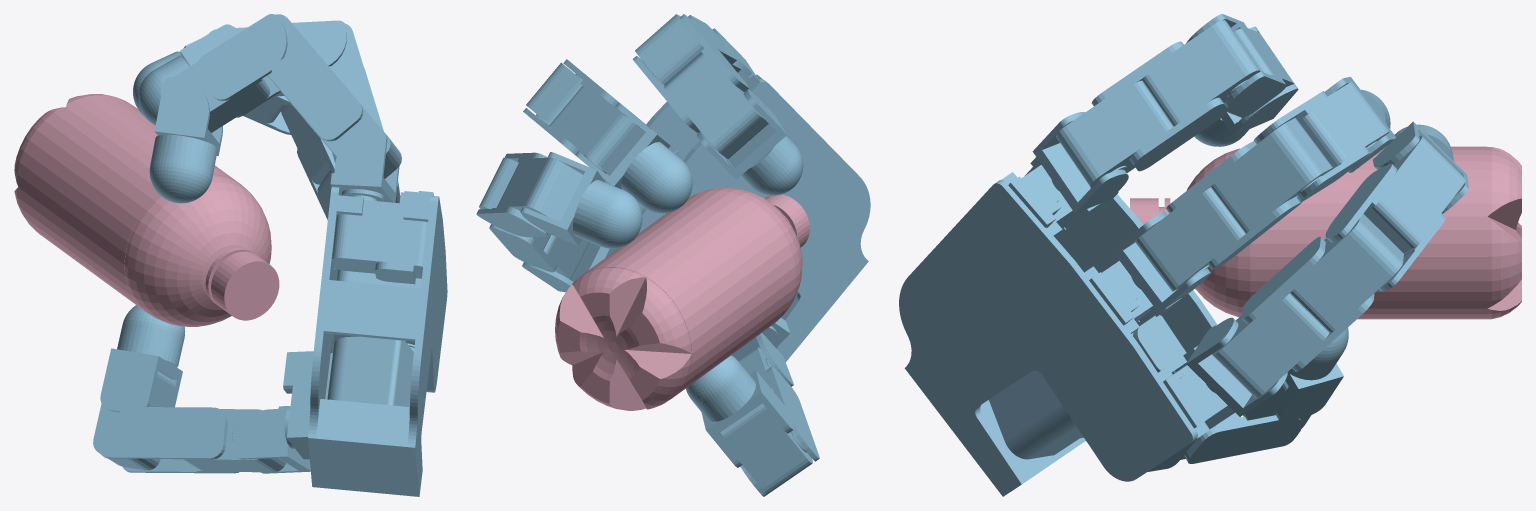
The picture shows the model from 3 angles, left to right: view 1: azimuth 30°, elevation 25°; view 2: azimuth 150°, elevation 25°; view 3: azimuth 270°, elevation 25°; orthographic projection. The views are drawn at different scales.
Visible parts, largest first — view 1: world; view 2: world; view 3: world.
Part boxes in pixels (x1=…): world: x1=14, y1=14, x2=447, y2=496; world: x1=476, y1=14, x2=870, y2=496; world: x1=899, y1=14, x2=1521, y2=496.
Size of the model in its own units: 0.1391 by 0.1888 by 0.2169.
